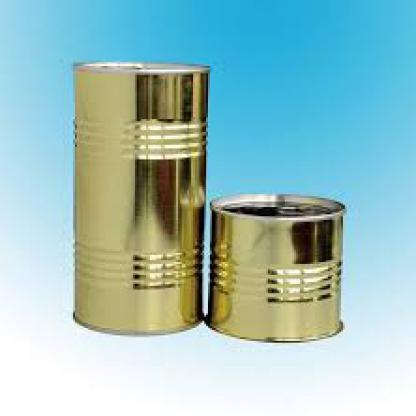METAL: (67, 60, 208, 330), (208, 194, 343, 341)
